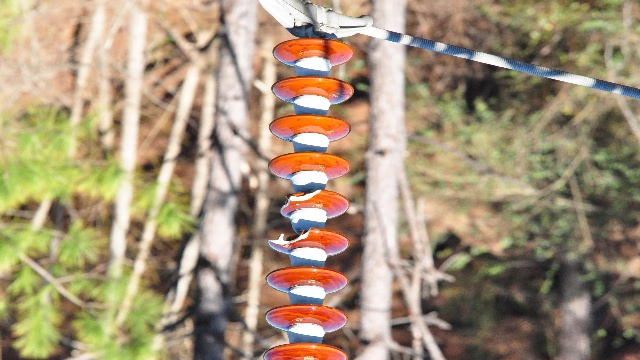broken_local: (278, 188, 324, 217), (268, 225, 312, 245)
insulator_unspecified: (264, 38, 356, 359)
